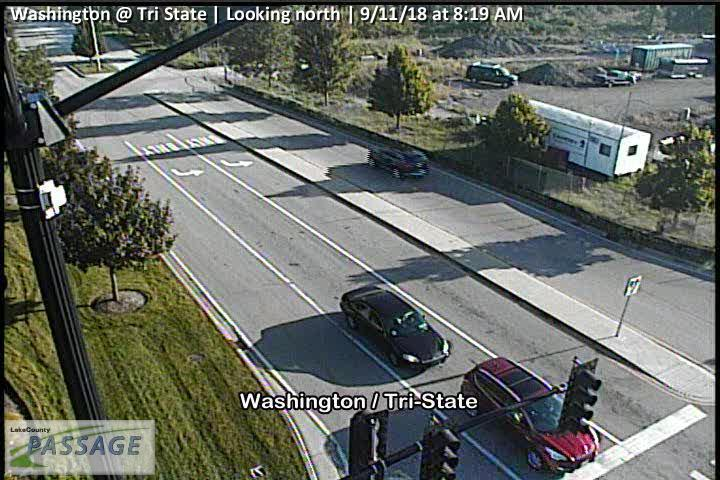SUV: (366, 141, 430, 180), (465, 61, 517, 89)
Sedan: (461, 355, 601, 476), (338, 283, 452, 369)
Truck: (591, 67, 638, 89)
